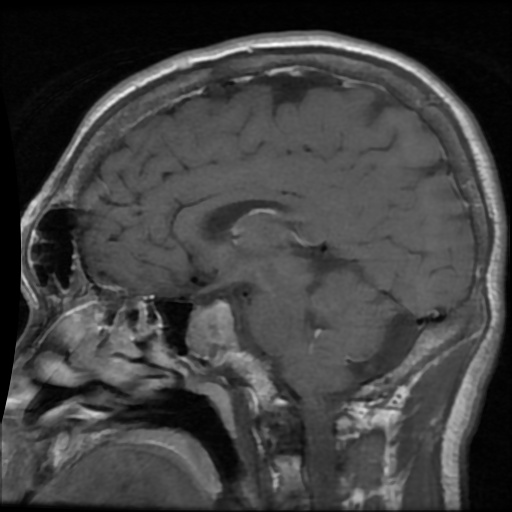pituitary: (186, 296, 235, 361)
